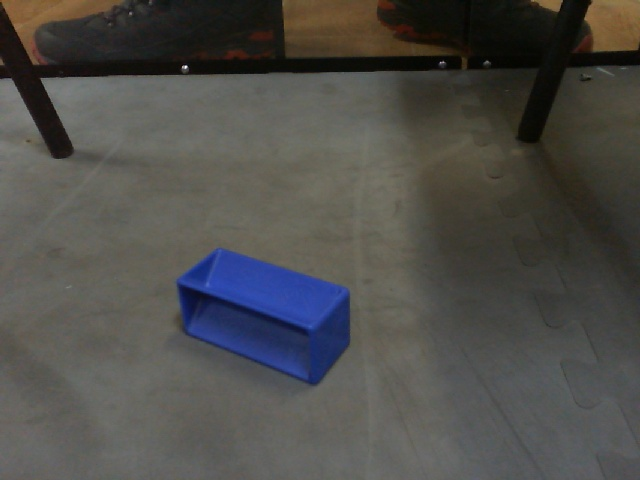BlueSample: (174, 246, 355, 393)
